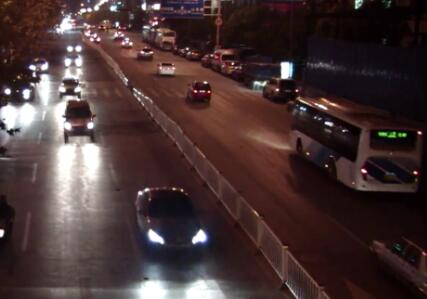bus: (285, 92, 422, 197), (147, 25, 176, 50), (141, 24, 152, 42)
car: (133, 184, 211, 260), (371, 228, 424, 286), (60, 98, 96, 140), (242, 54, 282, 90), (1, 78, 37, 104), (260, 76, 295, 102), (208, 47, 236, 72), (184, 79, 211, 102), (57, 76, 81, 97), (219, 56, 242, 77), (28, 55, 49, 75), (63, 51, 83, 70), (154, 60, 176, 77), (64, 40, 83, 56), (199, 54, 215, 69), (137, 44, 154, 57), (120, 36, 135, 48), (185, 48, 199, 60), (112, 29, 126, 39), (89, 32, 102, 42), (177, 47, 187, 56)
